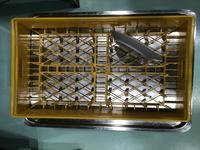Inclined_dish: (109, 30, 163, 61)
